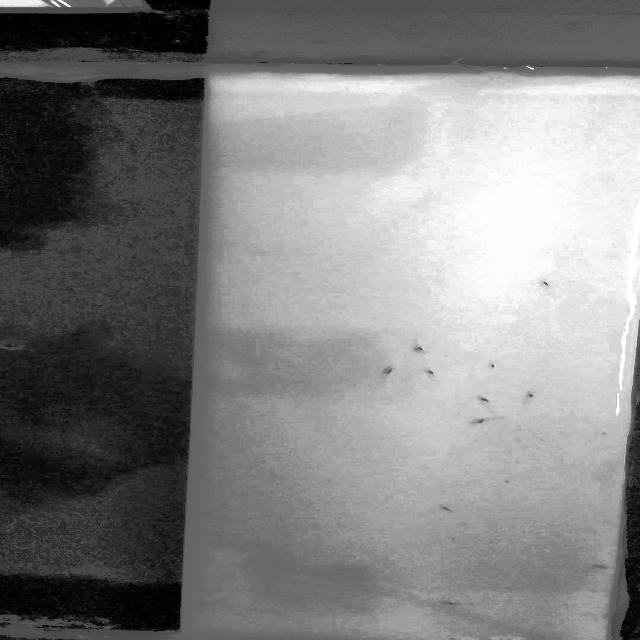shrimp: (480, 396, 499, 411), (424, 370, 444, 384), (440, 504, 460, 516), (381, 366, 394, 384), (414, 344, 434, 355), (441, 598, 465, 606), (540, 279, 559, 289), (194, 599, 217, 607), (526, 390, 536, 408), (474, 418, 494, 426), (487, 363, 501, 371), (592, 563, 606, 570)
